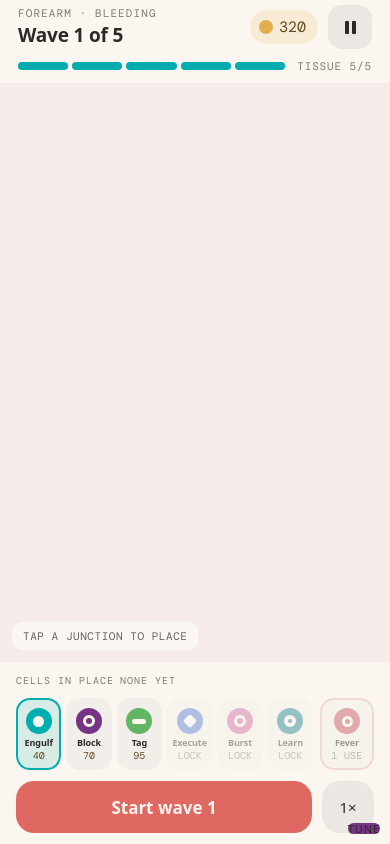
Scenario: FightPage › changes the board hint when a cell is picked up and put back down
Expected: the text with test id "board-hint" reads "TAP A JUNCTION TO PLACE", 23,629 -> 188,643
The dock opens on a default selection, so the first tap on it clears the selection.
Click the button with test id "dock-card-phago" at (39, 734), box 16,698 -> 61,770
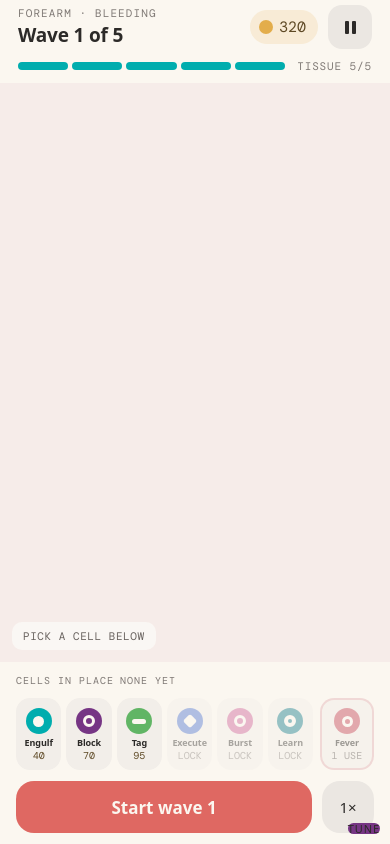
Expected: the text with test id "board-hint" reads "PICK A CELL BELOW", 23,629 -> 145,643
Click the button with test id "dock-card-clot" at (89, 734), box 66,698 -> 112,770
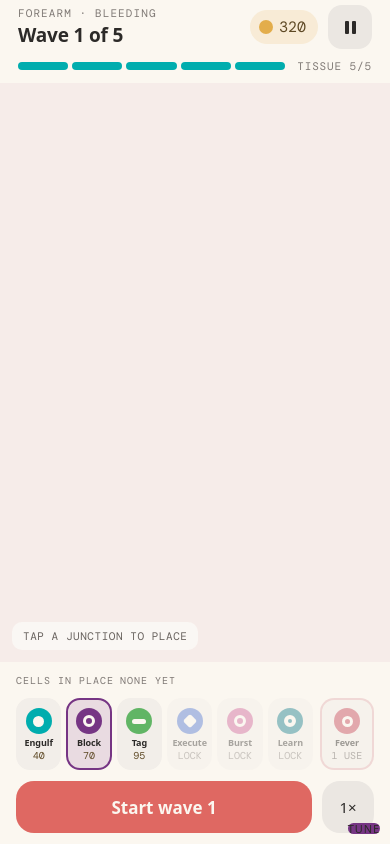
Expected: the text with test id "board-hint" reads "TAP A JUNCTION TO PLACE", 23,629 -> 188,643
